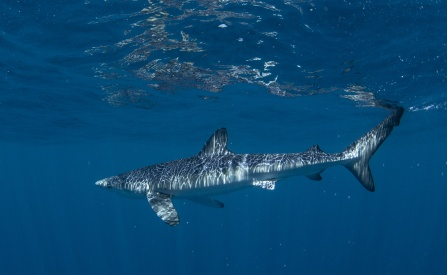Azul: (78, 99, 417, 228)
